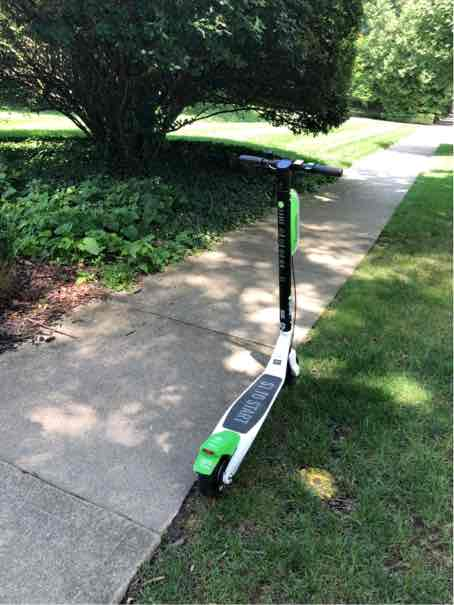scooter: (179, 145, 349, 486)
